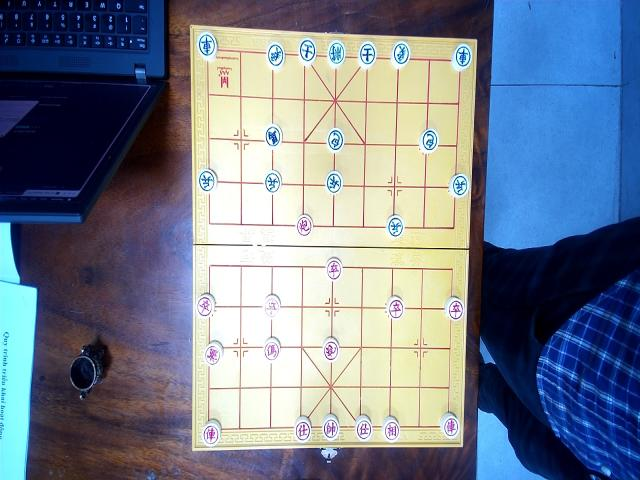piece: (450, 43, 472, 72), (196, 31, 218, 60), (448, 172, 470, 199), (326, 39, 346, 68), (390, 41, 410, 69), (440, 412, 460, 439), (266, 41, 285, 69), (298, 38, 317, 66), (358, 40, 377, 68), (418, 128, 438, 154), (444, 296, 464, 322), (201, 420, 221, 446), (326, 126, 345, 153), (381, 416, 400, 443), (203, 341, 222, 367), (322, 414, 340, 441), (294, 416, 312, 443), (354, 415, 372, 441), (322, 336, 340, 362), (198, 168, 216, 193), (386, 295, 404, 320), (325, 170, 343, 195), (264, 123, 282, 148), (196, 293, 214, 318), (386, 214, 404, 238), (325, 257, 343, 281), (296, 214, 313, 237), (264, 171, 281, 194), (264, 336, 280, 360), (264, 295, 280, 317)
